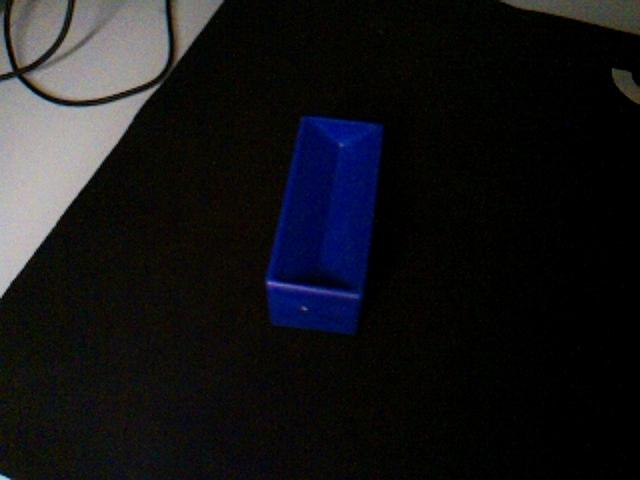blue: (263, 113, 386, 336)
